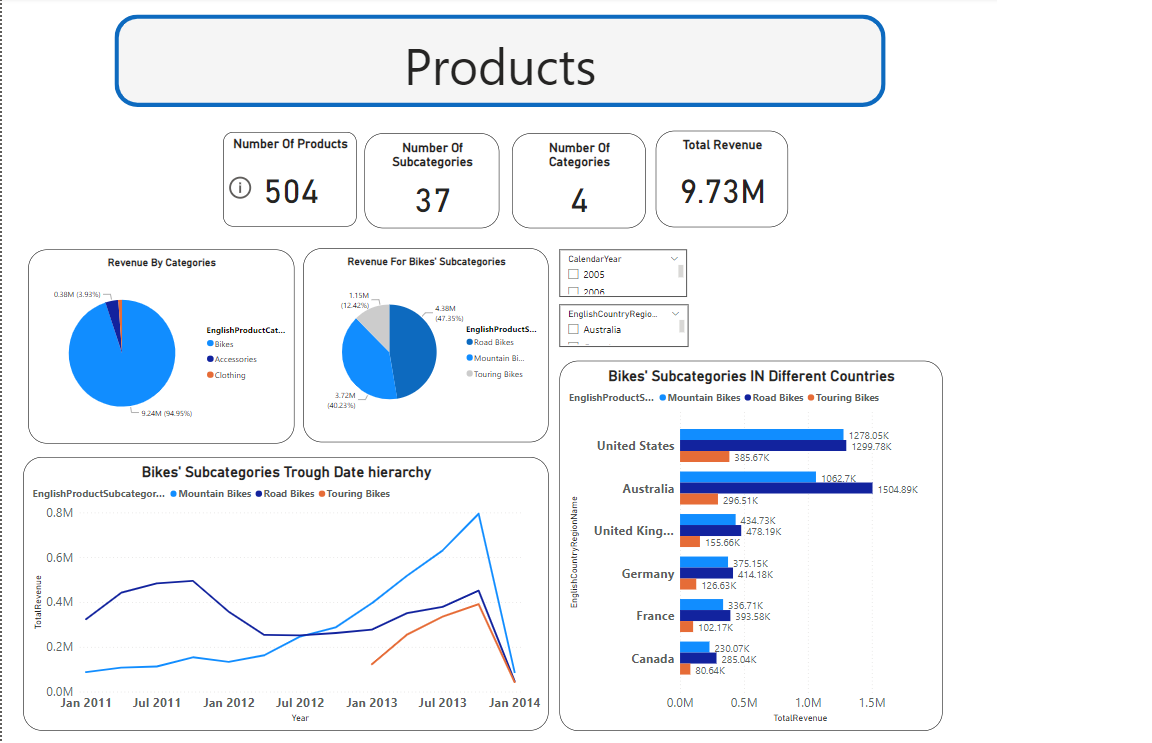

What the dashboard file says about the page in this screenshot:
{"tool":"powerbi","page":{"name":"Product","canvas":[1600,1200],"ordinal":3},"visuals":[{"type":"card","title":"Number Of Products","fields":{"Values":["Count(DimProduct.ProductAlternateKey)"]},"box":[355.8,217.7,214.5,151.8],"z":0},{"type":"card","title":"Number Of Categories","fields":{"Values":["Count(DimProductCategory.ProductCategoryKey)"]},"box":[820.8,218.1,214.9,152.9],"z":1000},{"type":"card","title":"Number Of Subcategories","fields":{"Values":["Count(DimProductSubcategory.ProductSubcategoryAlternateKey)"]},"box":[583.2,218.1,216.9,152.9],"z":2000},{"type":"pieChart","title":"Revenue For Bikes'' Subcategories","fields":{"Category":["DimProductSubcategory.EnglishProductSubcategoryName"],"Y":["measures .TotalRevenue"]},"box":[483.4,404.6,394.6,312],"z":3000},{"type":"card","title":"Total Revenue","fields":{"Values":["measures .TotalRevenue"]},"box":[1052.3,216.1,212.8,155],"z":4000},{"type":"pieChart","title":"Revenue By Categories","fields":{"Y":["measures .TotalRevenue"],"Category":["DimProductCategory.EnglishProductCategoryName"]},"box":[41.3,406.7,427.7,312],"z":5000},{"type":"actionButton","box":[359.8,283.8,56.3,46.2],"z":6000},{"type":"clusteredBarChart","title":"Bikes'' Subcategories IN Different Countries","fields":{"Y":["measures .TotalRevenue"],"Category":["DimGeography.EnglishCountryRegionName"],"Series":["DimProductSubcategory.EnglishProductSubcategoryName"]},"box":[895.5,585.4,615.7,595],"z":8000},{"type":"lineChart","title":"Bikes'' Subcategories Trough Date hierarchy","fields":{"Y":["measures .TotalRevenue"],"Series":["DimProductSubcategory.EnglishProductSubcategoryName"],"Category":["DimDate.FullDateAlternateKey.Variation.Date Hierarchy.Year","DimDate.FullDateAlternateKey.Variation.Date Hierarchy.Quarter","DimDate.FullDateAlternateKey.Variation.Date Hierarchy.Month"]},"box":[33.9,740.3,845,440.1],"z":9000},{"type":"slicer","fields":{"Values":["DimDate.CalendarYear"]},"box":[896.5,406,205,76.4],"z":10000},{"type":"slicer","fields":{"Values":["DimGeography.EnglishCountryRegionName"]},"box":[896.5,494.5,207,68.3],"z":11000},{"type":"shape","box":[180.9,28.1,1240.2,148.7],"z":12000},{"type":"textbox","box":[572.9,50.3,456.3,150.8],"z":13000}]}

Visuals, with their boxes on the page's 1600x1200 design canvas (x1, y1, x2, y2). These are canvas units, not pixel positions in the 1152x743 screenshot, which may show the page scaled, cropped or inside an application window:
"Number Of Products" card: 356,218,570,370
"Number Of Categories" card: 821,218,1036,371
"Number Of Subcategories" card: 583,218,800,371
"Revenue For Bikes'' Subcategories" pieChart: 483,405,878,717
"Total Revenue" card: 1052,216,1265,371
"Revenue By Categories" pieChart: 41,407,469,719
actionButton: 360,284,416,330
"Bikes'' Subcategories IN Different Countries" clusteredBarChart: 896,585,1511,1180
"Bikes'' Subcategories Trough Date hierarchy" lineChart: 34,740,879,1180
slicer - DimDate.CalendarYear: 896,406,1102,482
slicer - DimGeography.EnglishCountryRegionName: 896,494,1104,563
shape: 181,28,1421,177
textbox: 573,50,1029,201
